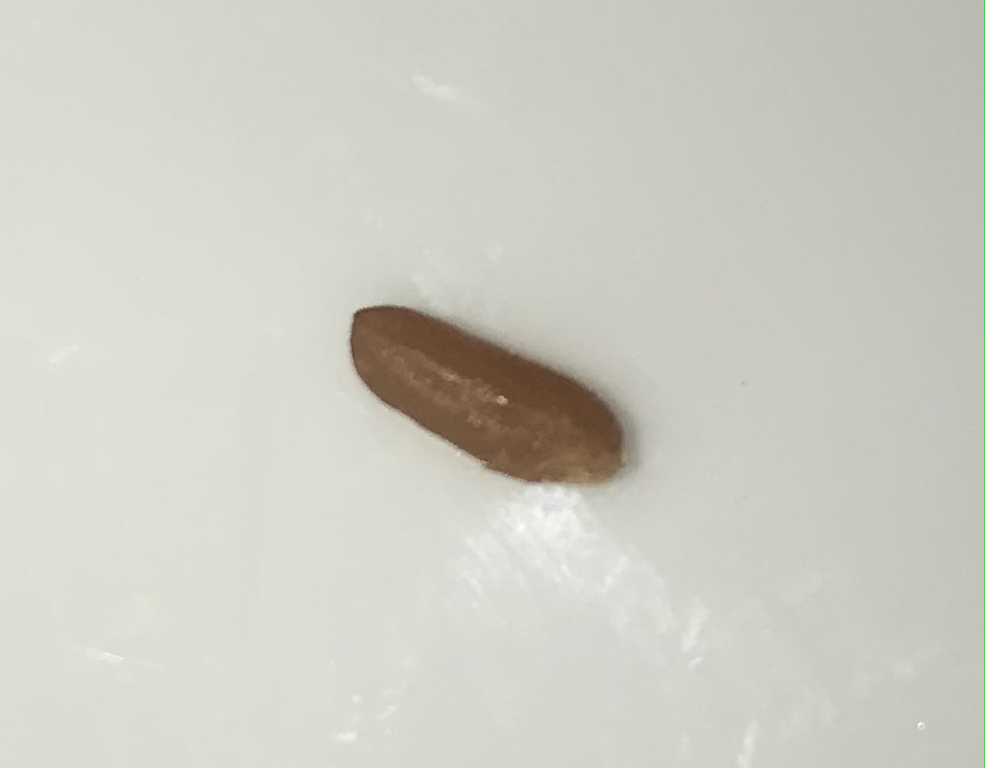Gao Lut Dien Bien: (327, 288, 630, 495)
